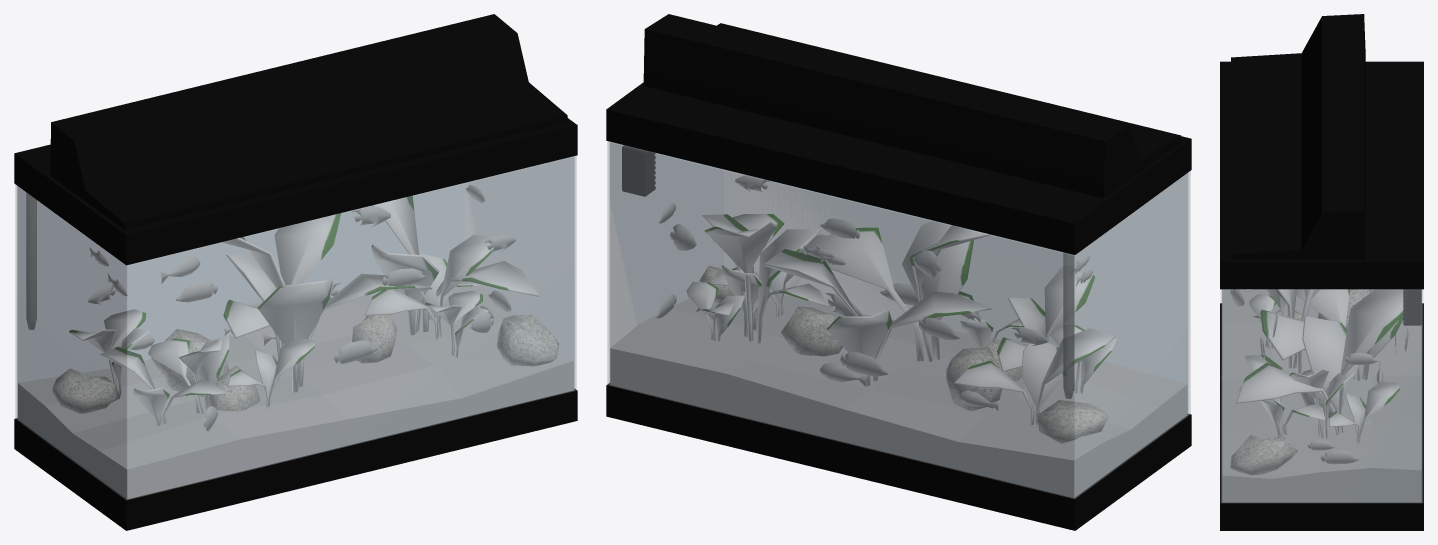
Rendered from aquarium.obj.
The picture shows the model from 3 angles, left to right: view 1: azimuth 30°, elevation 25°; view 2: azimuth 150°, elevation 25°; view 3: azimuth 270°, elevation 25°; orthographic projection. The views are drawn at different scales.
Visible parts, largest first — view 1: aquarium-glass_Cube, aquarium-glass.002_Cube.009, aquarium-top_Cube.002, aquarium-glass.001_Cube.003, aquarium-base_Cube.001, Plane.032, Plane.033, Plane.031, Plane, Plane.005, Cube.002_Cube.006, Plane.004 (+9 smaller); view 2: aquarium-glass_Cube, aquarium-glass.002_Cube.009, aquarium-top_Cube.002, aquarium-glass.001_Cube.003, aquarium-base_Cube.001, Plane.032, Plane.033, Plane.031, Plane.006, Plane.005, Cube.003_Cube.007, Cube_Cube.004 (+9 smaller); view 3: aquarium-top_Cube.002, aquarium-glass_Cube, aquarium-glass.002_Cube.009, aquarium-glass.001_Cube.003, Plane.031, aquarium-base_Cube.001, Plane.032, Cube.002_Cube.006, Plane.033, Plane.002, Plane.001, Plane (+6 smaller).
Boxes of the visible parts, <box> form: aquarium-glass_Cube: <box>15,156,576,499</box>; aquarium-glass.002_Cube.009: <box>17,156,574,498</box>; aquarium-top_Cube.002: <box>14,14,577,265</box>; aquarium-glass.001_Cube.003: <box>18,286,573,498</box>; aquarium-base_Cube.001: <box>14,388,577,530</box>; Plane.032: <box>222,237,431,391</box>; Plane.033: <box>223,213,340,356</box>; Plane.031: <box>371,196,538,335</box>; Plane: <box>364,235,493,339</box>; Plane.005: <box>148,335,229,413</box>; Cube.002_Cube.006: <box>497,314,558,365</box>; Plane.004: <box>100,347,226,425</box>; aquarium-glass_Cube: <box>607,141,1190,498</box>; aquarium-glass.002_Cube.009: <box>610,142,1187,497</box>; aquarium-top_Cube.002: <box>606,14,1191,254</box>; aquarium-glass.001_Cube.003: <box>610,287,1187,497</box>; aquarium-base_Cube.001: <box>606,383,1191,530</box>; Plane.032: <box>803,220,990,361</box>; Plane.033: <box>764,249,990,385</box>; Plane.031: <box>705,214,821,342</box>; Plane.006: <box>954,328,1114,425</box>; Plane.005: <box>997,264,1094,371</box>; Cube.003_Cube.007: <box>1037,400,1108,443</box>; Cube_Cube.004: <box>781,306,842,356</box>; aquarium-top_Cube.002: <box>1220,14,1423,289</box>; aquarium-glass_Cube: <box>1221,289,1422,502</box>; aquarium-glass.002_Cube.009: <box>1222,289,1421,502</box>; aquarium-glass.001_Cube.003: <box>1222,289,1421,502</box>; Plane.031: <box>1235,289,1402,434</box>; aquarium-base_Cube.001: <box>1220,303,1423,530</box>; Plane.032: <box>1260,289,1319,373</box>; Cube.002_Cube.006: <box>1230,435,1297,474</box>; Plane.033: <box>1296,289,1402,380</box>; Plane.002: <box>1329,381,1399,443</box>; Plane.001: <box>1245,355,1324,435</box>; Plane: <box>1289,368,1355,438</box>.
Bounding box in the file's own units: 70.21 × 52.01 × 30.18.
